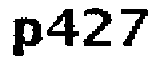2: (82, 6, 113, 51)
4: (45, 9, 81, 50)
7: (118, 7, 151, 50)
p: (12, 14, 41, 60)
